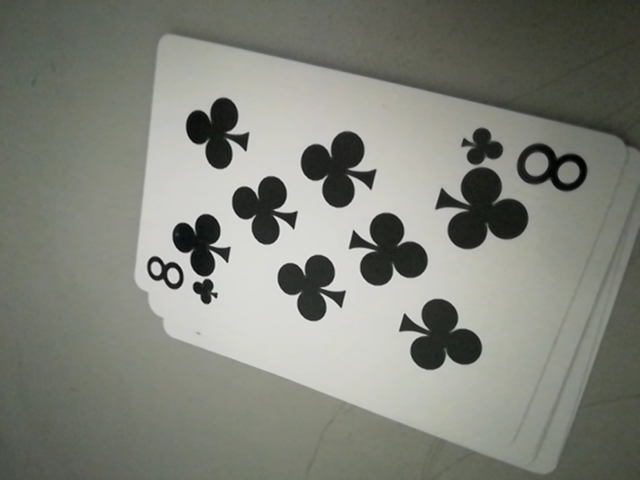mh 8: (457, 126, 593, 188), (141, 255, 215, 311)
